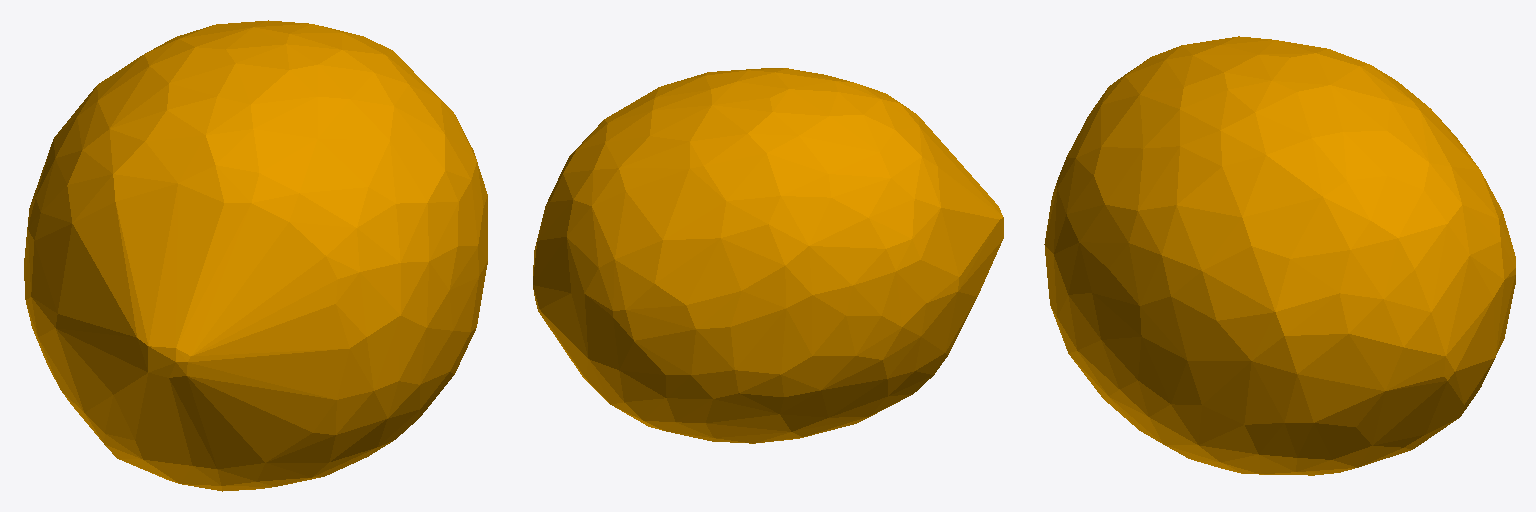
The robot description file, URDF, robot "014_lemon":
<?xml version="1.0" encoding="UTF-8"?>
<robot name="014_lemon">
	<link name="base">
		<collision>
			<geometry>
				<mesh filename="..\vhacd\014_lemon_vhacd.obj" scale="1.0 1.0 1.0"/>
			</geometry>
			<origin xyz="0 0 0"/>
			<contact_coefficients mu="0.24" />
		</collision>
		<visual>
			<geometry>
				<mesh filename="..\vhacd\014_lemon_vhacd.obj" scale="1.0 1.0 1.0"/>
			</geometry>
			<origin xyz="0 0 0"/>
		</visual>
		<inertial>
			<mass value="0"/>
			<inertia ixx="0.0" ixy="-0.0" ixz="0.0" iyy="0.0" iyz="-0.0" izz="0.0" />
			<origin xyz="-0.01077049303586428 0.02101421822484358 0.026208533601975767"/>
		</inertial>
	</link>
</robot>

--- Facts derived from the render (not from the file) ---
Views: 3 orthographic renders of the robot side by side, from view 1: azimuth 30°, elevation 25°; view 2: azimuth 150°, elevation 25°; view 3: azimuth 270°, elevation 25°.
Robot: 014_lemon — 1 links, 0 joints (none); root link base; default pose: every joint at zero.
Links seen in each view (by area): view 1: base; view 2: base; view 3: base.
Boxes of the visible links, x1,y1,x2,y2 form: base: (24, 20, 487, 491); base: (533, 68, 1003, 443); base: (1044, 36, 1515, 475).
Bounding box of the posed robot: 0.0608 × 0.0594 × 0.0532 m (x, y, z).
Meshes: 1 distinct files referenced, 1 mesh visuals loaded (1 OBJ).